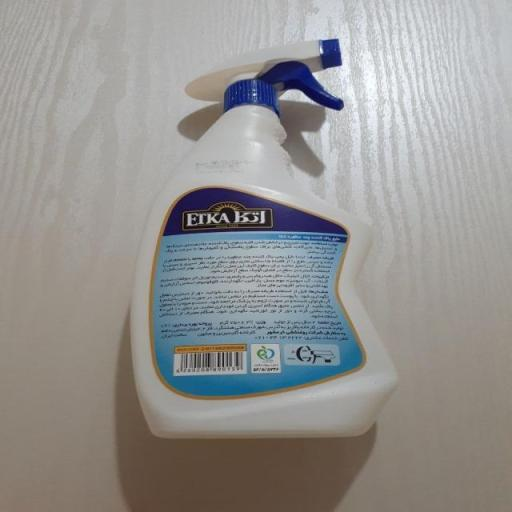plastic: (124, 36, 402, 439)
